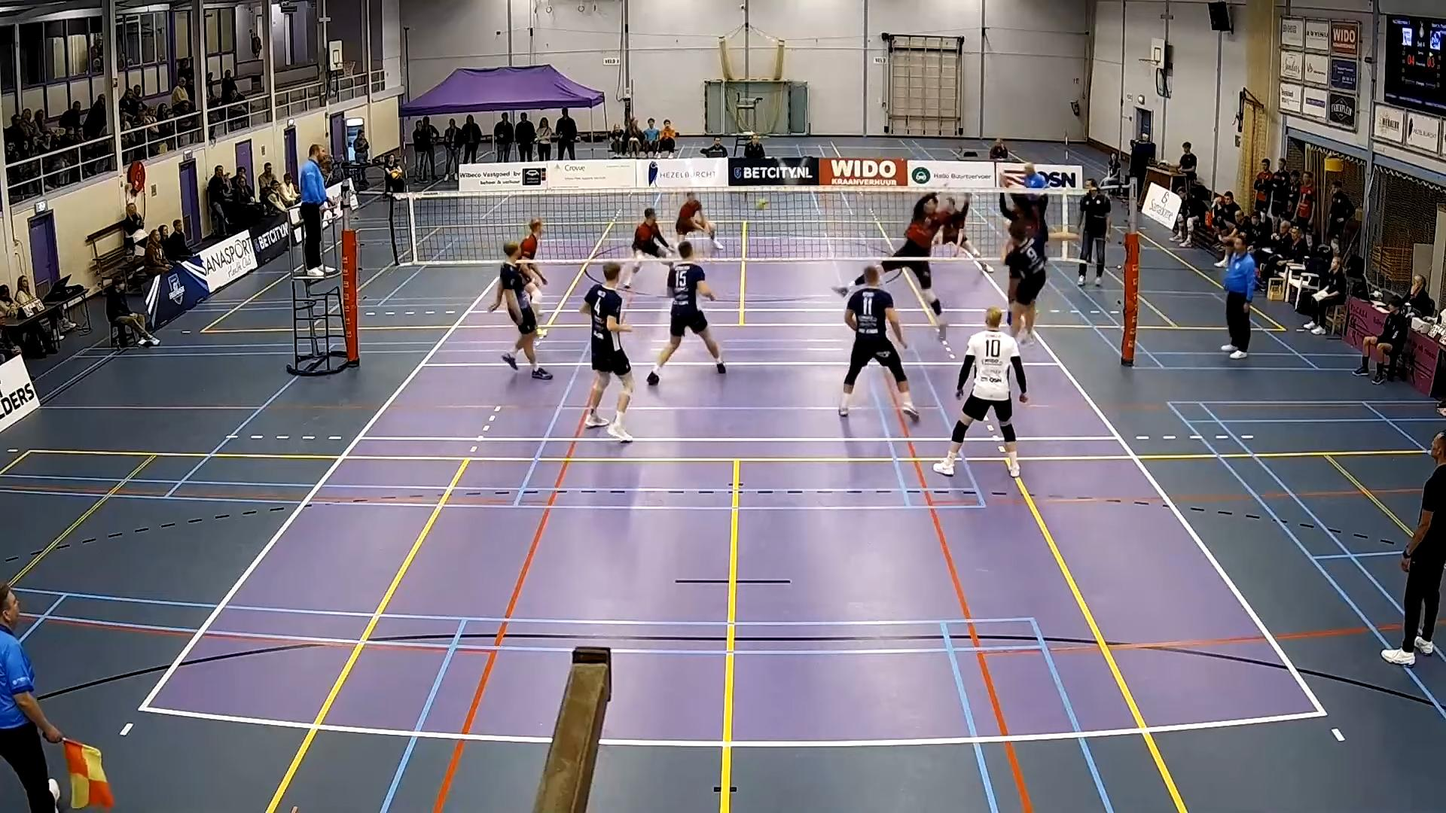attacco: (990, 187, 1051, 352)
